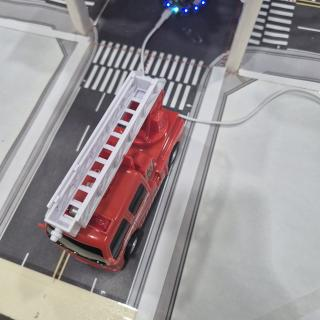Fire_truck: (39, 71, 184, 272)
